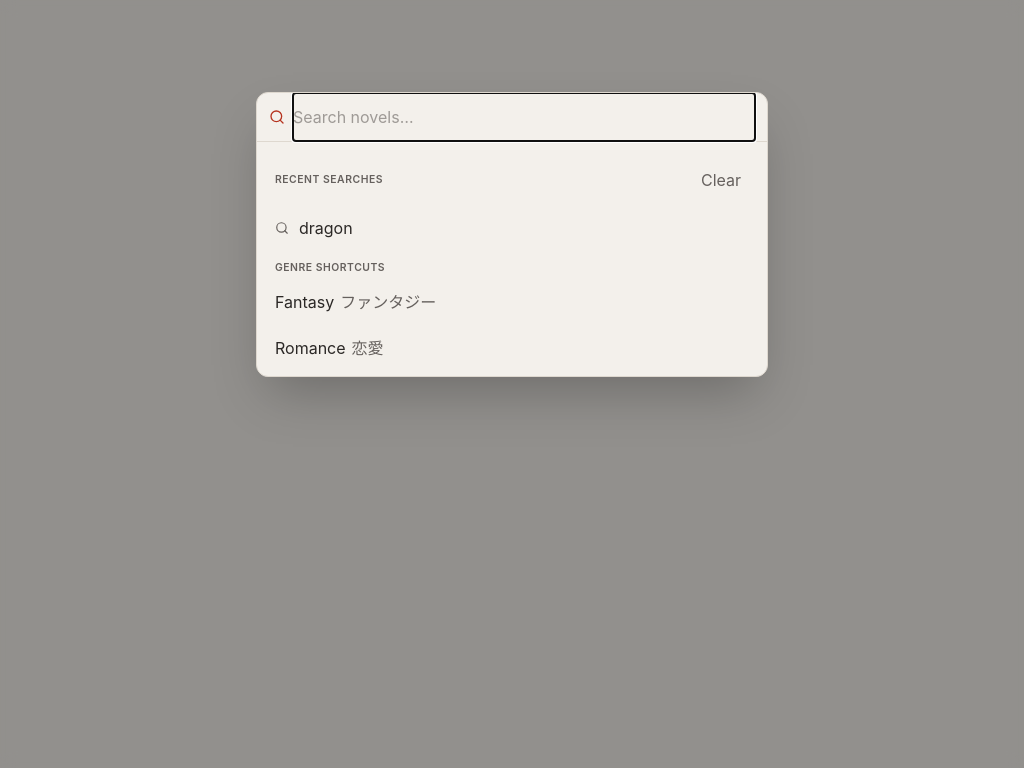
Test: SearchOverlay empty query state › clears recent searches
This screenshot has width=1024, height=768.
Click the button "Clear" at (721, 180), box [693, 158, 749, 202]
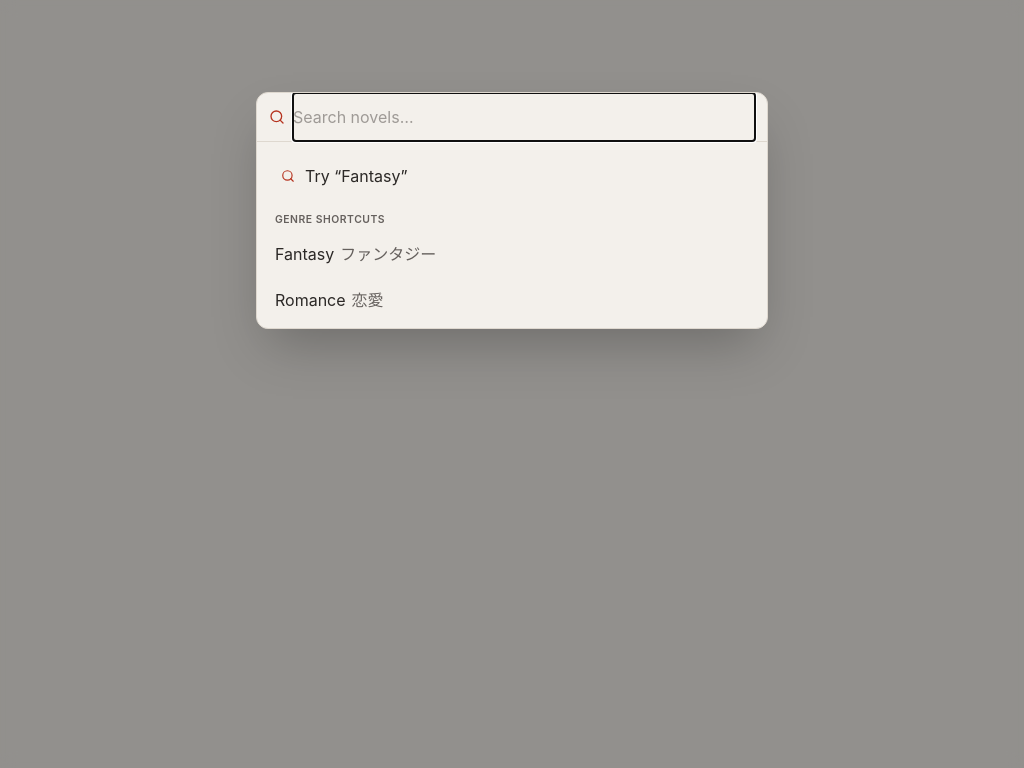
Now the button "dragon" is gone
